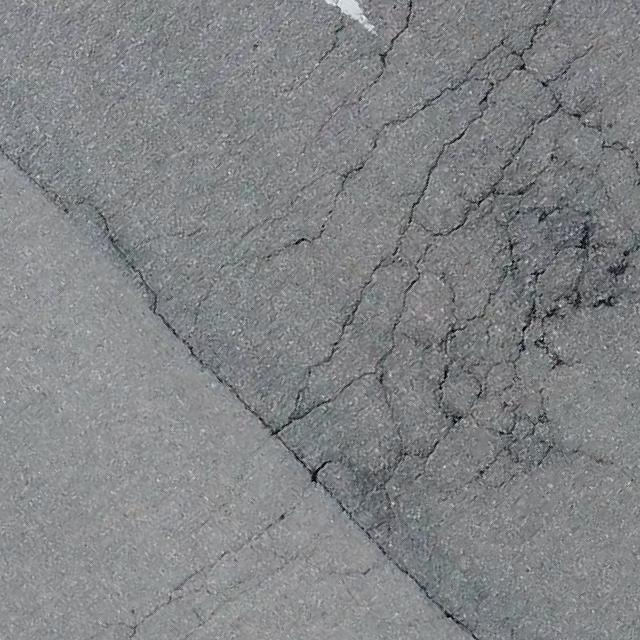GRIETA: (0, 140, 481, 639)
PIEL DE COCODRILO: (190, 0, 639, 558), (85, 479, 394, 639)
